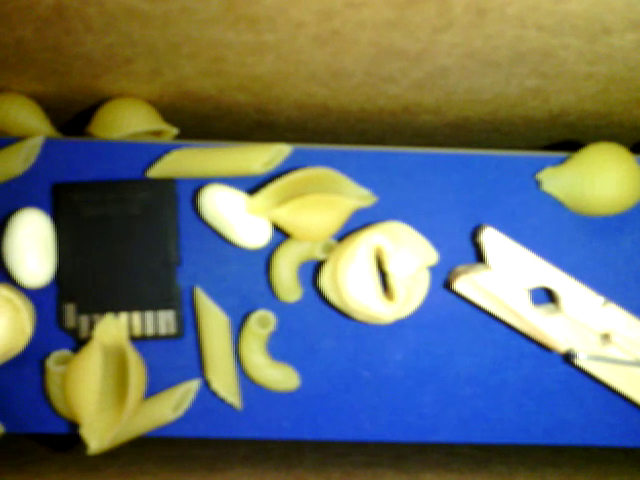elbow: (264, 228, 336, 305), (240, 307, 301, 393), (44, 345, 76, 418)
penne: (86, 378, 198, 458), (186, 281, 241, 416), (142, 140, 296, 183), (1, 132, 49, 185)
shell: (242, 163, 384, 238), (68, 310, 145, 445), (537, 140, 639, 219), (1, 81, 76, 140), (88, 97, 177, 142)
tortellini: (314, 219, 438, 326), (1, 286, 37, 372)
